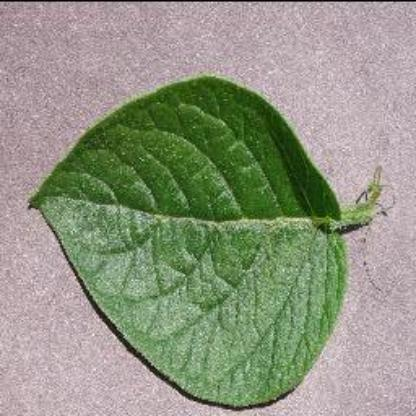Healthy-plant: (22, 70, 402, 410)
